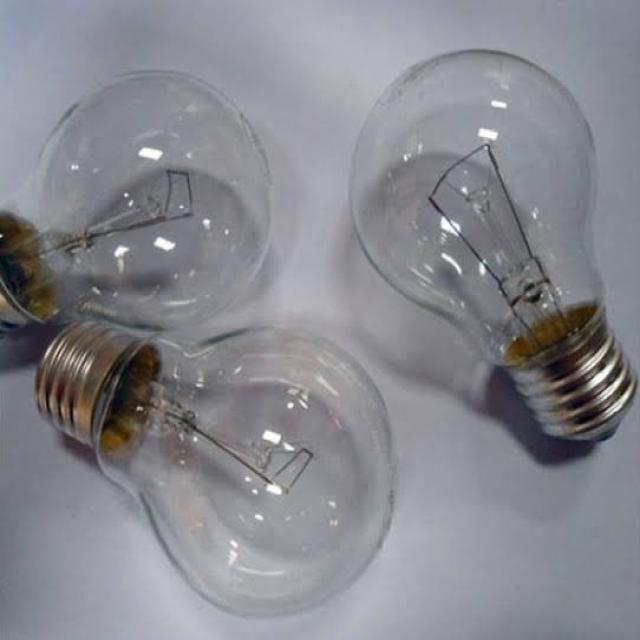bulb: (343, 25, 640, 465)
